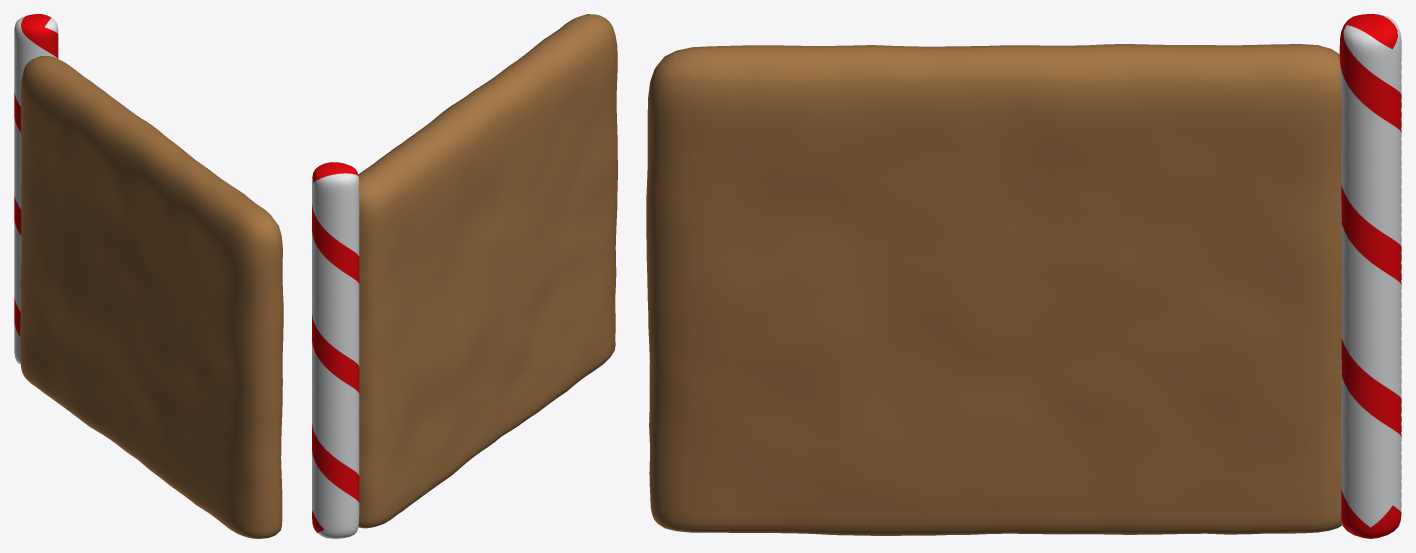
File: GingerbreadWall.fbx
3 views of the same model, side by side, from view 1: azimuth 30°, elevation 25°; view 2: azimuth 150°, elevation 25°; view 3: azimuth 270°, elevation 25° (orthographic). The views are drawn at different scales.
Visible parts, largest first — view 1: Cube.003, Cylinder.003; view 2: Cube.003, Cylinder.003; view 3: Cube.003, Cylinder.003.
Boxes of the visible parts, x1,y1,x2,y2 form: Cube.003: (20,56,283,538); Cylinder.003: (14,14,58,364); Cube.003: (358,14,617,528); Cylinder.003: (312,162,359,538); Cube.003: (646,44,1342,535); Cylinder.003: (1339,14,1401,538).
Bounding box in the file's own units: 25.34 × 160 × 213.
